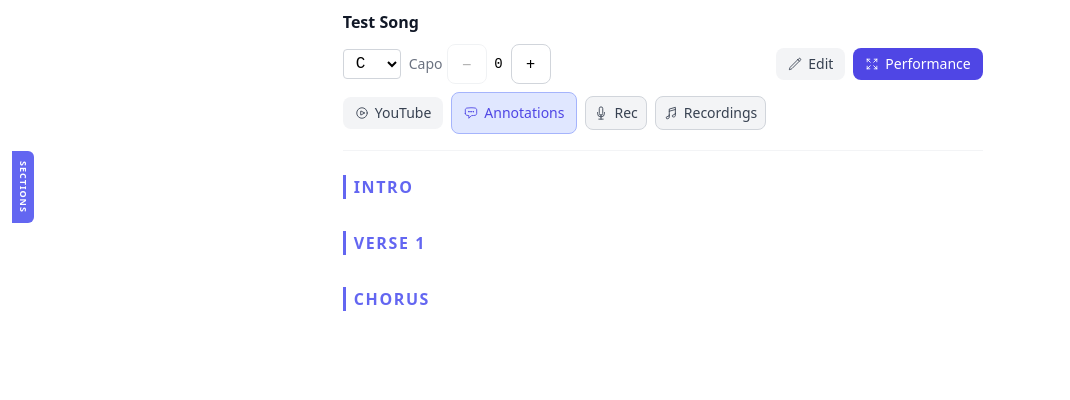
Test: SongView › opens the sidebar when the tab is clicked
This screenshot has width=1070, height=400.
Click the button named "show sections panel" at (23,187), box [12, 151, 34, 223]
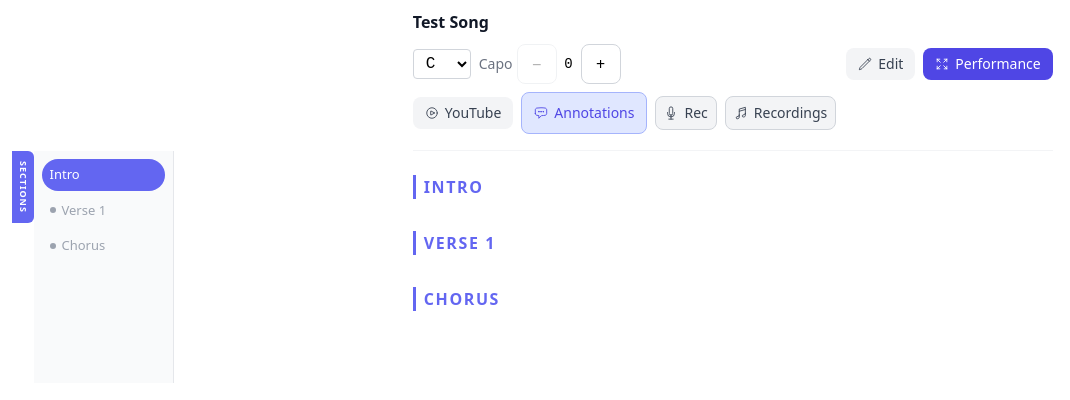
Check: the number of buttons "Intro" is 2
